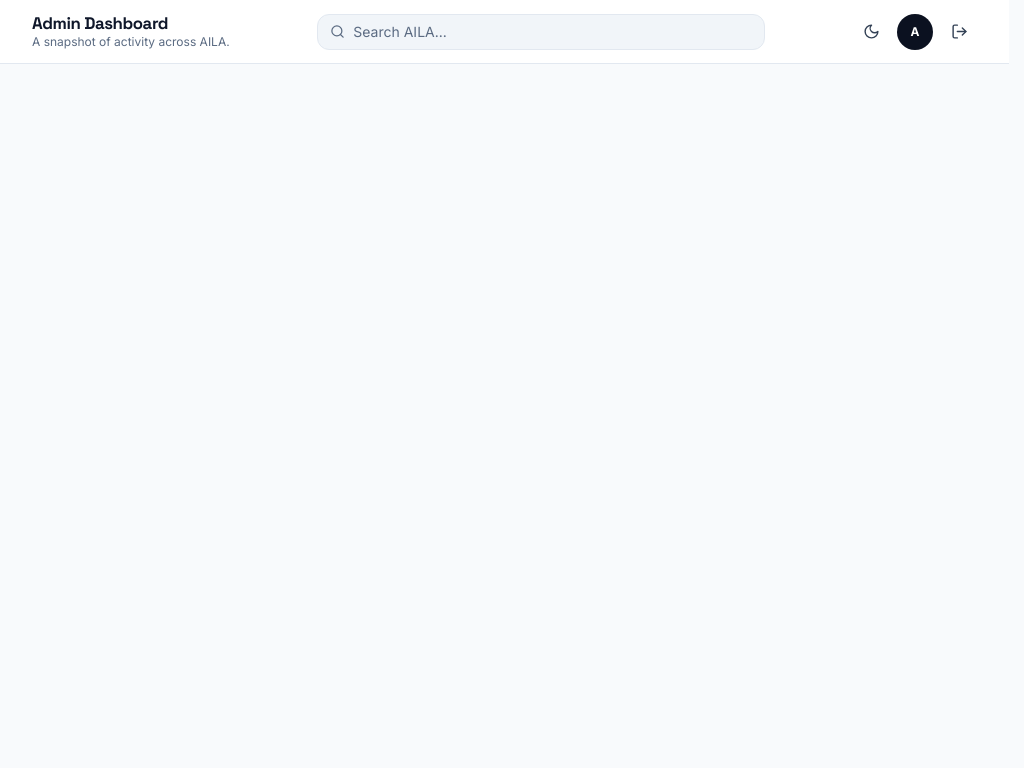
AdminTopbar logout confirmation › asks for confirmation and stays logged in on Cancel
Click the button titled "Log out" at (959, 32), box [941,14,977,50]
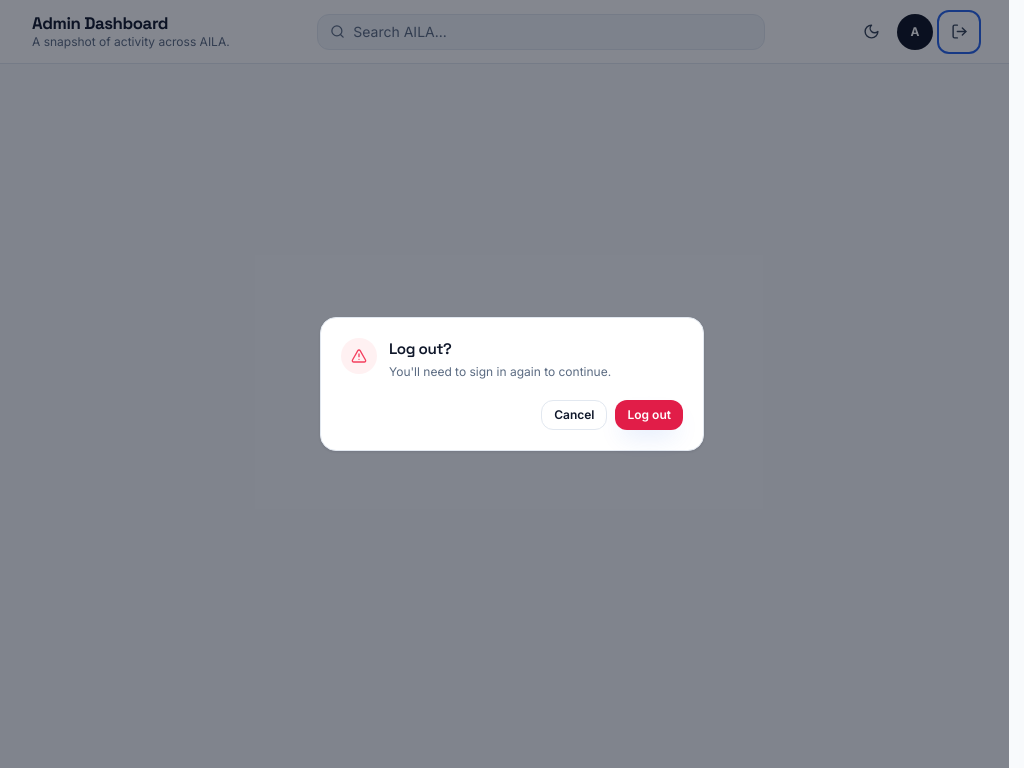
Result: the heading "Log out?" is shown at [389,339,452,358]
Result: the text "You'll need to sign in again to continue." is shown at [389,364,611,380]
Click the button "Cancel" at (574, 415), box [541,400,608,430]
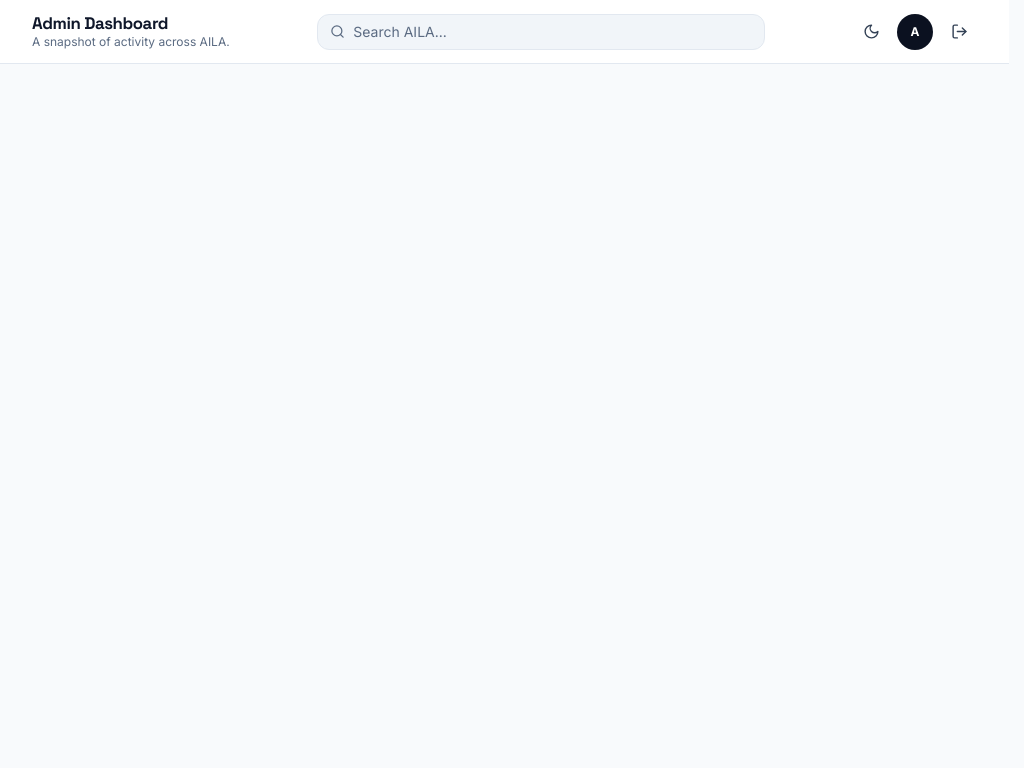
Result: the dialog is gone
